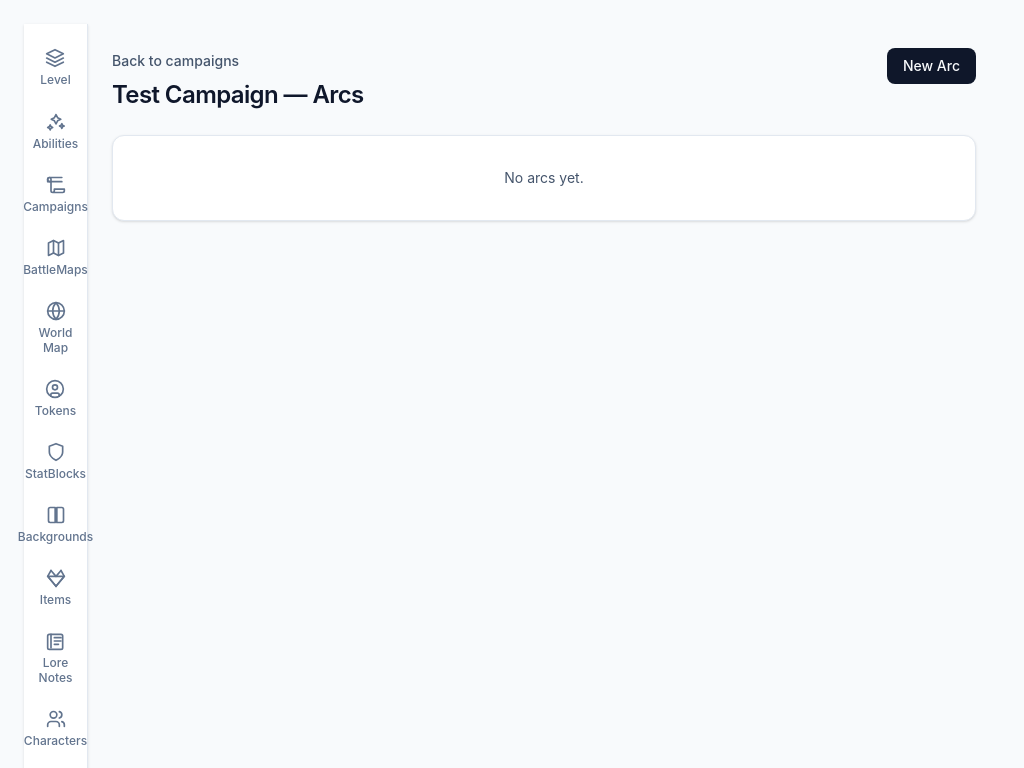
ArcsPage › create arc › creates arc on valid submit and shows it in list
This screenshot has width=1024, height=768.
Expected: the text "No arcs yet." is shown, top-left (504, 169), bottom-right (584, 186)
Click the button "New Arc". click: (931, 66)
box: top-left (887, 48), bottom-right (976, 84)
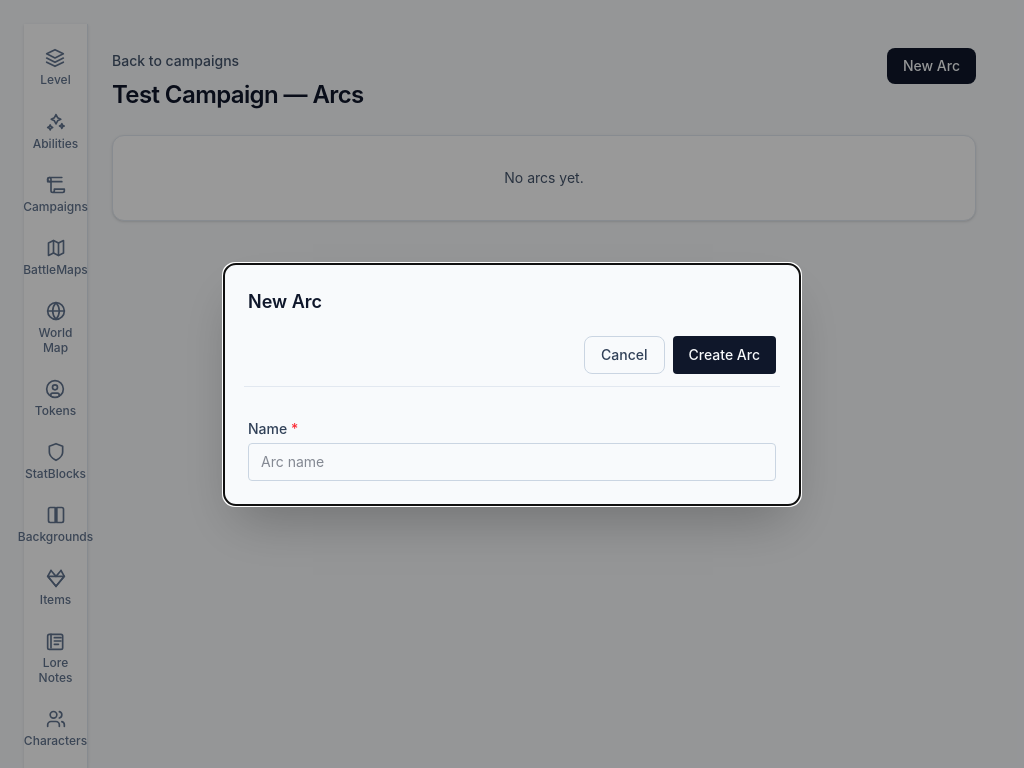
Type "Story Arc" into the field labelled "Name *". click: (512, 462)
box: top-left (248, 442), bottom-right (776, 480)
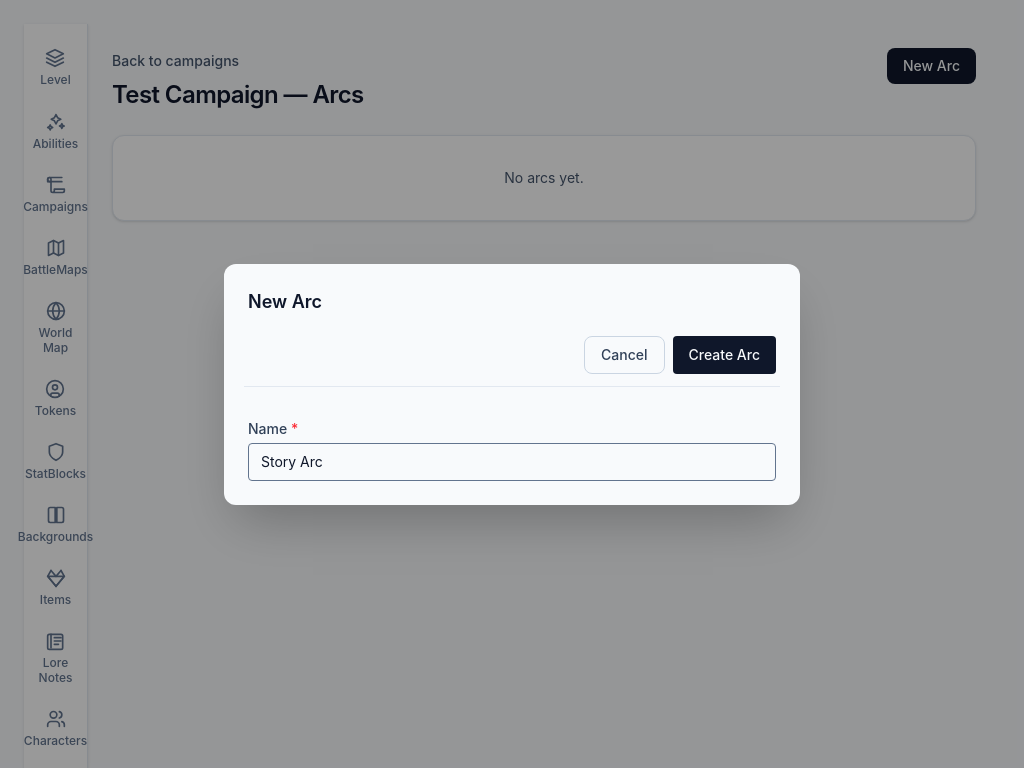
Click the button "Create Arc". click: (724, 354)
box: top-left (672, 336), bottom-right (776, 374)
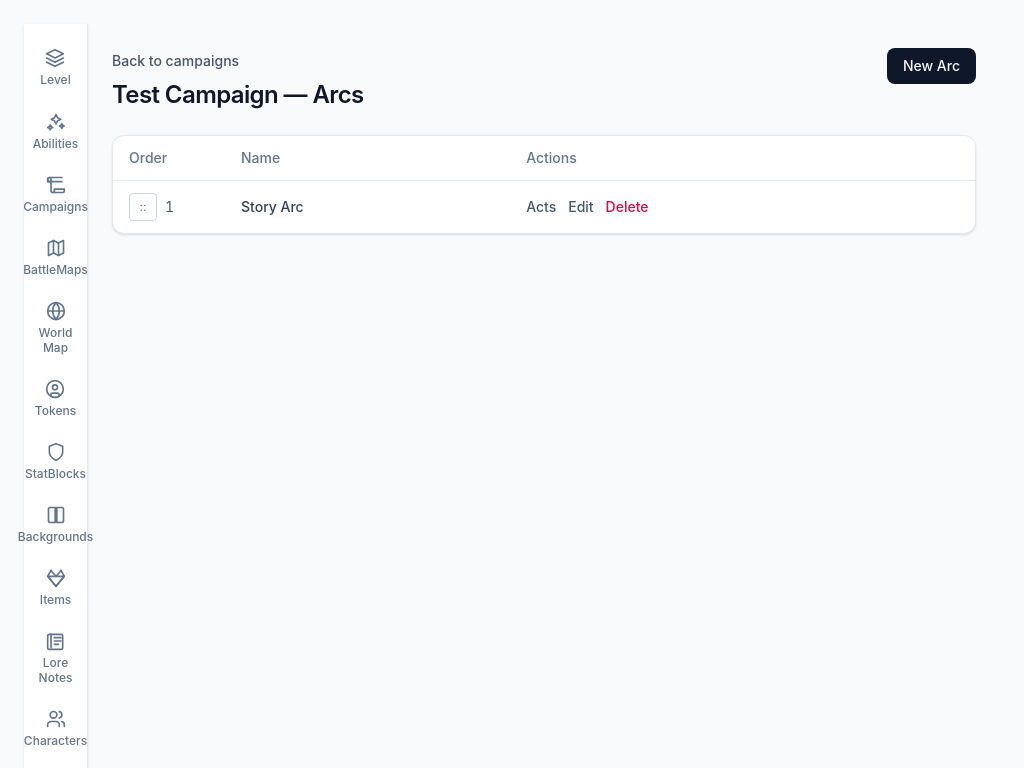
Result: the text "Story Arc" is shown at top-left (225, 180), bottom-right (510, 233)
